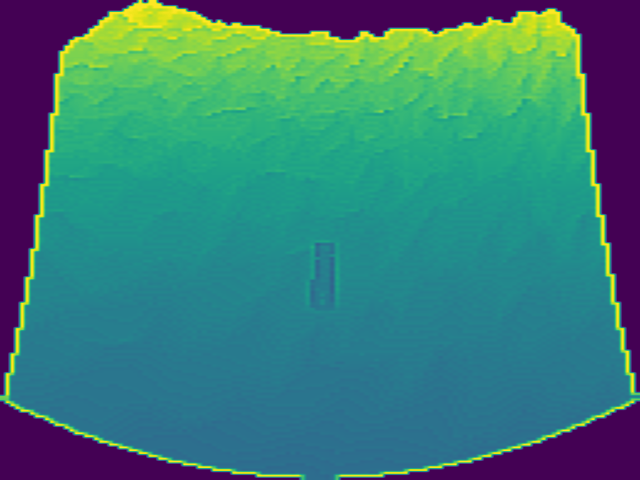car_0198: (307, 240, 339, 312)
